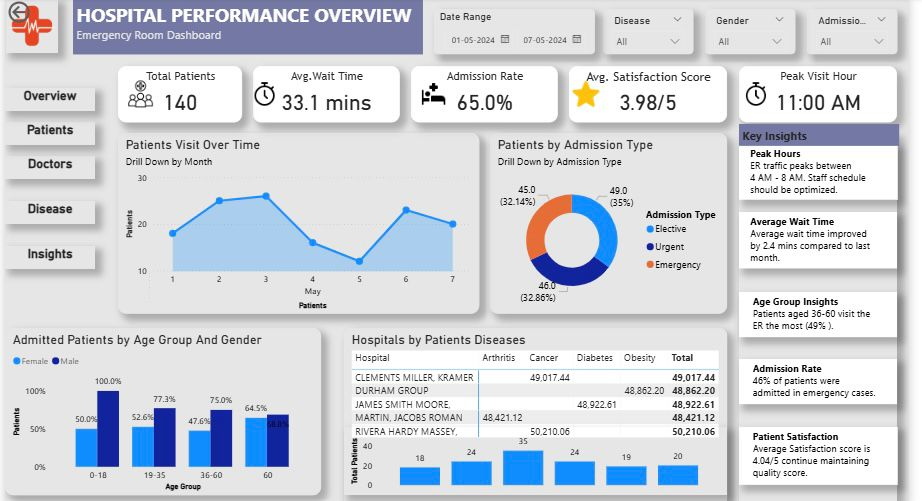

The dashboard page shown, as its layout file describes it:
{"tool":"powerbi","page":{"name":"Page 1","canvas":[1280,720],"ordinal":0},"visuals":[{"type":"shape","box":[0,80,160,640],"z":0},{"type":"card","title":"Avg.Wait Time","fields":{"Values":["HospitalData.Avg wait time display"]},"box":[352,96,208,80],"z":1000},{"type":"card","title":"Admission Rate","fields":{"Values":["HospitalData.Admission Rate"]},"box":[576,96,208,80],"z":2000},{"type":"card","title":"Total Patients","fields":{"Values":["HospitalData.Total Patients"]},"box":[160,96,176,80],"z":3000},{"type":"card","title":"Peak Visit Hour","fields":{"Values":["HospitalData.Peak Visit Hour"]},"box":[1040,96,224,80],"z":4000},{"type":"card","title":"Avg. Satisfaction Score","fields":{"Values":["HospitalData.Avg Satisfction Display"]},"box":[800,96,224,80],"z":5000},{"type":"lineChart","title":"Patients Visit Over Time","fields":{"Y":["HospitalData.Total Patients"],"Category":["HospitalData.Admission Date.Variation.Date Hierarchy.Month","HospitalData.Admission Date.Variation.Date Hierarchy.Day"]},"box":[160,192,512,256],"z":6000},{"type":"donutChart","title":"Patients by Admission Type","fields":{"Category":["HospitalData.Admission Type"],"Y":["HospitalData.Total Patients"]},"box":[688,192,336,256],"z":7000},{"type":"clusteredColumnChart","title":"Admitted Patients by  Age Group And Gender","fields":{"Category":["HospitalData.Age Group"],"Series":["HospitalData.Gender"],"Y":["HospitalData.Admission Rate"]},"box":[0,467.7,447.9,236.7],"z":8000},{"type":"pivotTable","title":"Hospitals by Patients Diseases","fields":{"Values":["HospitalData.Total Billing"],"Rows":["HospitalData.Hospital"],"Columns":["HospitalData.Disease"]},"box":[480.5,467.7,542.8,252.3],"z":9000},{"type":"shape","box":[1040,192,224,528],"z":10000},{"type":"textbox","box":[1039.8,206.6,225.1,79],"z":11000},{"type":"textbox","box":[1040,304,224,80],"z":12000},{"type":"textbox","box":[1040,416,224,64],"z":13000},{"type":"textbox","box":[1040,512,224,64],"z":14000},{"type":"textbox","box":[1039.8,608.1,225.1,82.3],"z":15000},{"type":"slicer","fields":{"Values":["HospitalData.Gender"]},"box":[992,16,128,64],"z":16000},{"type":"slicer","fields":{"Values":["HospitalData.Disease"]},"box":[848,16,128,64],"z":17000},{"type":"slicer","fields":{"Values":["HospitalData.Admission Type"]},"box":[1136,16,128,64],"z":18000},{"type":"slicer","title":"Date Range","fields":{"Values":["HospitalData.Admission Date"]},"box":[608,15.6,228.2,63.8],"z":19000},{"type":"actionButton","title":"Overview","box":[0,128,128,32],"z":20000},{"type":"actionButton","title":"Patients","box":[0,176,128,32],"z":21000},{"type":"actionButton","title":"Doctors","box":[0,224,128,32],"z":22000},{"type":"actionButton","title":"Insights","box":[0,352,128,32],"z":23000},{"type":"actionButton","title":"Disease","box":[0,288,128,32],"z":24000},{"type":"image","box":[800,112,48,48],"z":25000},{"type":"image","box":[336,112,64,48],"z":26000},{"type":"image","box":[1040,112,48,48],"z":27000},{"type":"image","box":[1.7,1.7,73.9,75.6],"z":28000},{"type":"image","box":[576,112,64,48],"z":29000},{"type":"image","box":[160,112,64,48],"z":30000},{"type":"textbox","box":[96,0,496,80],"z":31000},{"type":"textbox","box":[1040.3,178.6,226.8,31.2],"z":32000},{"type":"columnChart","fields":{"Y":["HospitalData.Total Patients"],"Category":["HospitalData.Disease"]},"box":[480.5,608,542.8,96.4],"z":33000},{"type":"actionButton","box":[0,0,100,40],"z":34000}]}

Visuals, with their boxes on the page's 1280x720 design canvas (x1, y1, x2, y2). These are canvas units, not pixel positions in the 922x501 screenshot, which may show the page scaled, cropped or inside an application window:
shape: bbox=(0, 80, 160, 720)
"Avg.Wait Time" card: bbox=(352, 96, 560, 176)
"Admission Rate" card: bbox=(576, 96, 784, 176)
"Total Patients" card: bbox=(160, 96, 336, 176)
"Peak Visit Hour" card: bbox=(1040, 96, 1264, 176)
"Avg. Satisfaction Score" card: bbox=(800, 96, 1024, 176)
"Patients Visit Over Time" lineChart: bbox=(160, 192, 672, 448)
"Patients by Admission Type" donutChart: bbox=(688, 192, 1024, 448)
"Admitted Patients by  Age Group And Gender" clusteredColumnChart: bbox=(0, 468, 448, 704)
"Hospitals by Patients Diseases" pivotTable: bbox=(480, 468, 1023, 720)
shape: bbox=(1040, 192, 1264, 720)
textbox: bbox=(1040, 207, 1265, 286)
textbox: bbox=(1040, 304, 1264, 384)
textbox: bbox=(1040, 416, 1264, 480)
textbox: bbox=(1040, 512, 1264, 576)
textbox: bbox=(1040, 608, 1265, 690)
slicer - HospitalData.Gender: bbox=(992, 16, 1120, 80)
slicer - HospitalData.Disease: bbox=(848, 16, 976, 80)
slicer - HospitalData.Admission Type: bbox=(1136, 16, 1264, 80)
"Date Range" slicer: bbox=(608, 16, 836, 79)
"Overview" actionButton: bbox=(0, 128, 128, 160)
"Patients" actionButton: bbox=(0, 176, 128, 208)
"Doctors" actionButton: bbox=(0, 224, 128, 256)
"Insights" actionButton: bbox=(0, 352, 128, 384)
"Disease" actionButton: bbox=(0, 288, 128, 320)
image: bbox=(800, 112, 848, 160)
image: bbox=(336, 112, 400, 160)
image: bbox=(1040, 112, 1088, 160)
image: bbox=(2, 2, 76, 77)
image: bbox=(576, 112, 640, 160)
image: bbox=(160, 112, 224, 160)
textbox: bbox=(96, 0, 592, 80)
textbox: bbox=(1040, 179, 1267, 210)
columnChart - HospitalData.Total Patients x HospitalData.Disease: bbox=(480, 608, 1023, 704)
actionButton: bbox=(0, 0, 100, 40)
